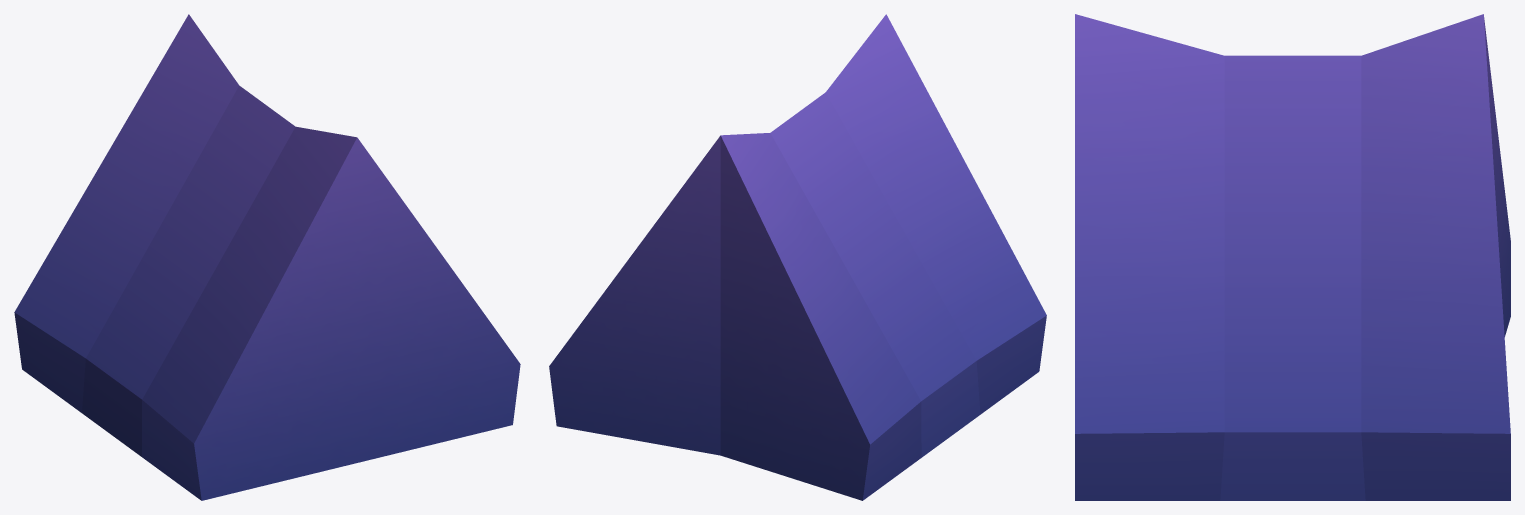
The model's file is Tent_Blue.fbx.
3 views of the same model, side by side, from view 1: azimuth 30°, elevation 25°; view 2: azimuth 150°, elevation 25°; view 3: azimuth 270°, elevation 25° (orthographic). The views are drawn at different scales.
Parts seen in each view (by area): view 1: Cube.006; view 2: Cube.006; view 3: Cube.006.
Boxes of the visible parts, x1=… form: Cube.006: x1=14, y1=14, x2=520, y2=500; Cube.006: x1=549, y1=14, x2=1046, y2=500; Cube.006: x1=1075, y1=14, x2=1510, y2=500.
Bounding box in the file's own units: 210 × 200 × 200.
